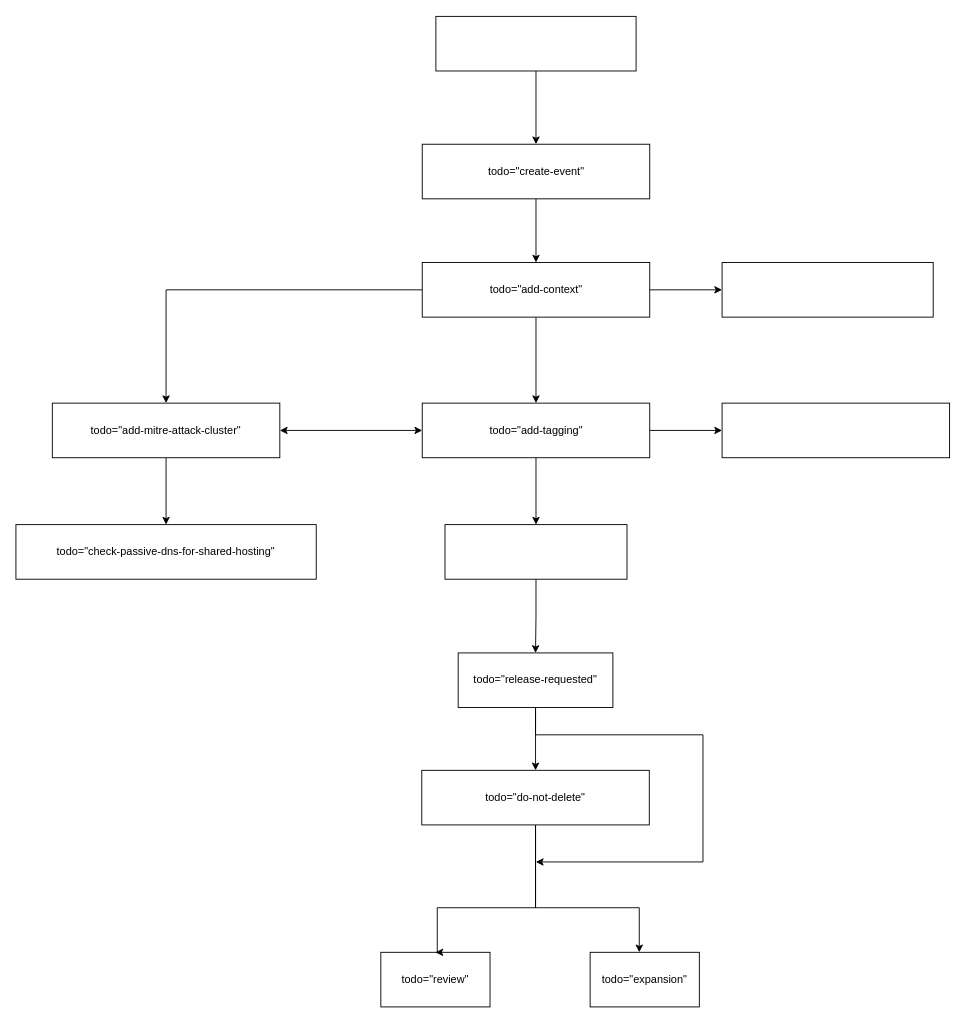
The diagram is 966 pixels wide and 1023 high, and some of its shapes have lost their labels. The shapes that lost their labels are listed below. From the top down, each one's box as (x1, y1, x2, y2) in pixels, then its label:
(435, 15, 636, 71): todo="review-the-source-credibility"
(721, 262, 933, 317): todo="preserve-evidence"
(721, 402, 950, 458): todo="additional-task"
(444, 524, 627, 579): todo="review-before-publication"
